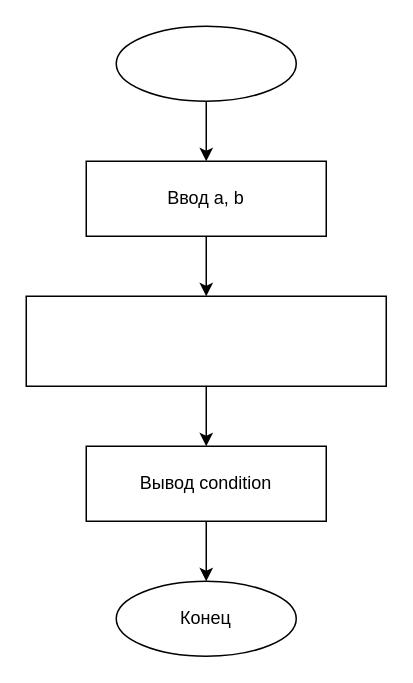
This 413x683 diagram has some shape labels left out. Each missing label, with the centre of its shape:
"condition = (a%2!=0) != (b%2!=0)" belongs at [205,340].
"Начало" belongs at [205,63].
